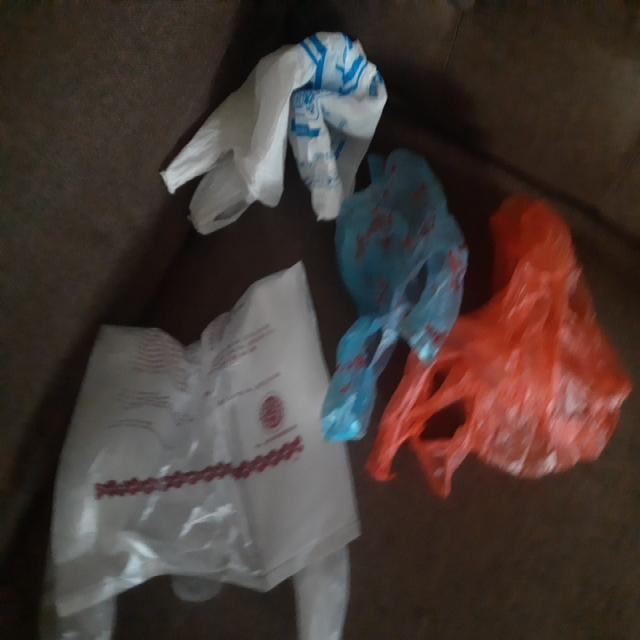Single-layer Plastic: (42, 262, 359, 640), (369, 196, 632, 496), (161, 32, 386, 233), (322, 150, 468, 441)
